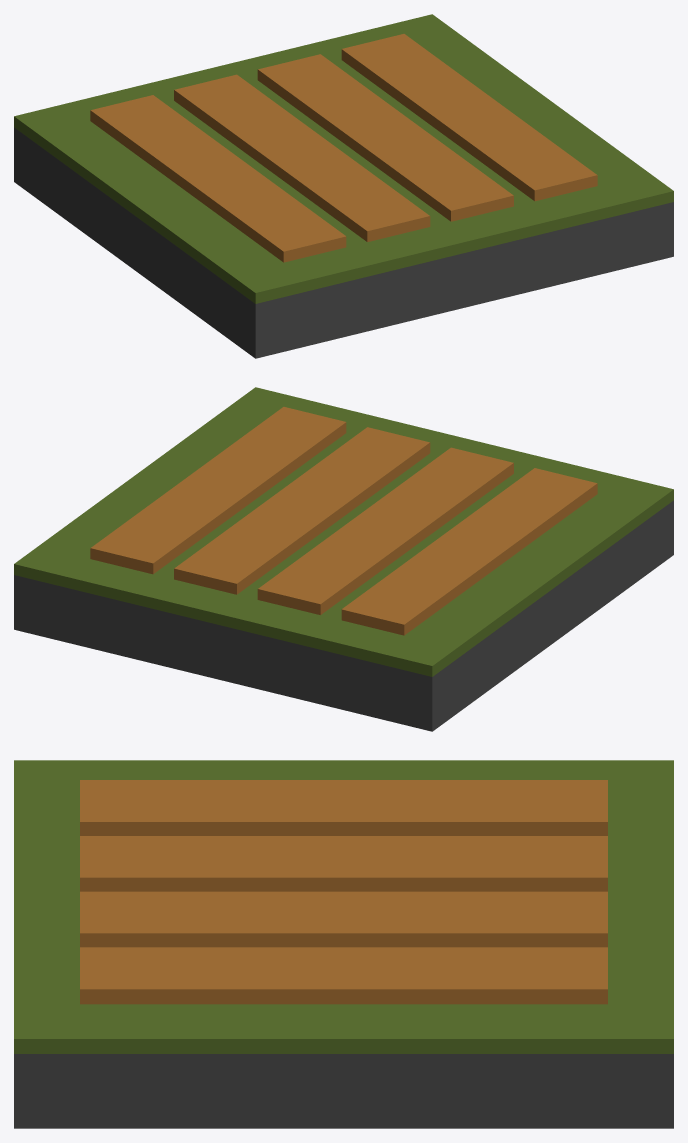
Rendered from fields000.obj.
The picture shows the model from 3 angles, top to bottom: view 1: azimuth 30°, elevation 25°; view 2: azimuth 150°, elevation 25°; view 3: azimuth 270°, elevation 25°; orthographic projection. The views are drawn at different scales.
Bounding box in the file's own units: 4 × 0.7 × 4.
1 material, 1 textured.
